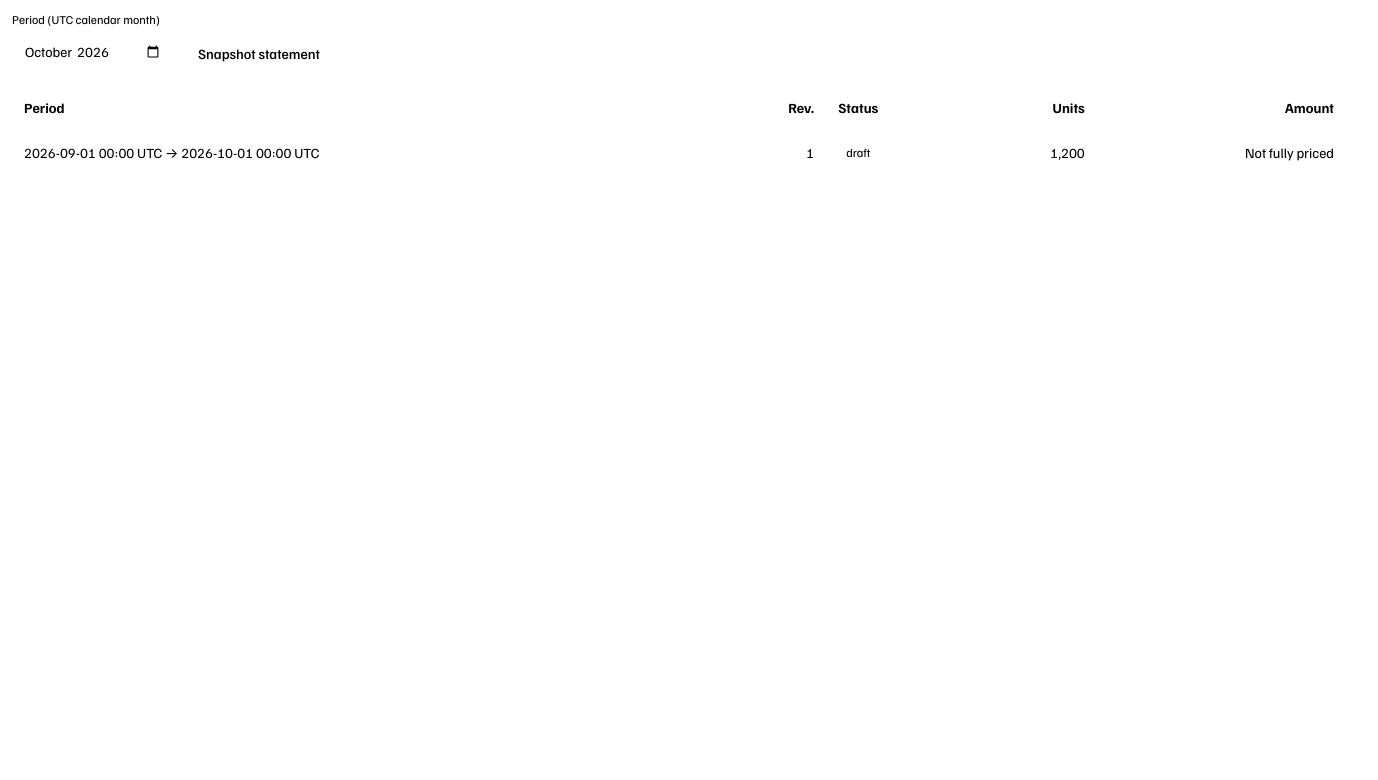
offers no finalize for an unpriced draft and explains why
What coordinates should you click on to do the following:
click the text "Not fully priced"
I would click on:
 (1289, 152)
Its box is [1097,130,1346,175].
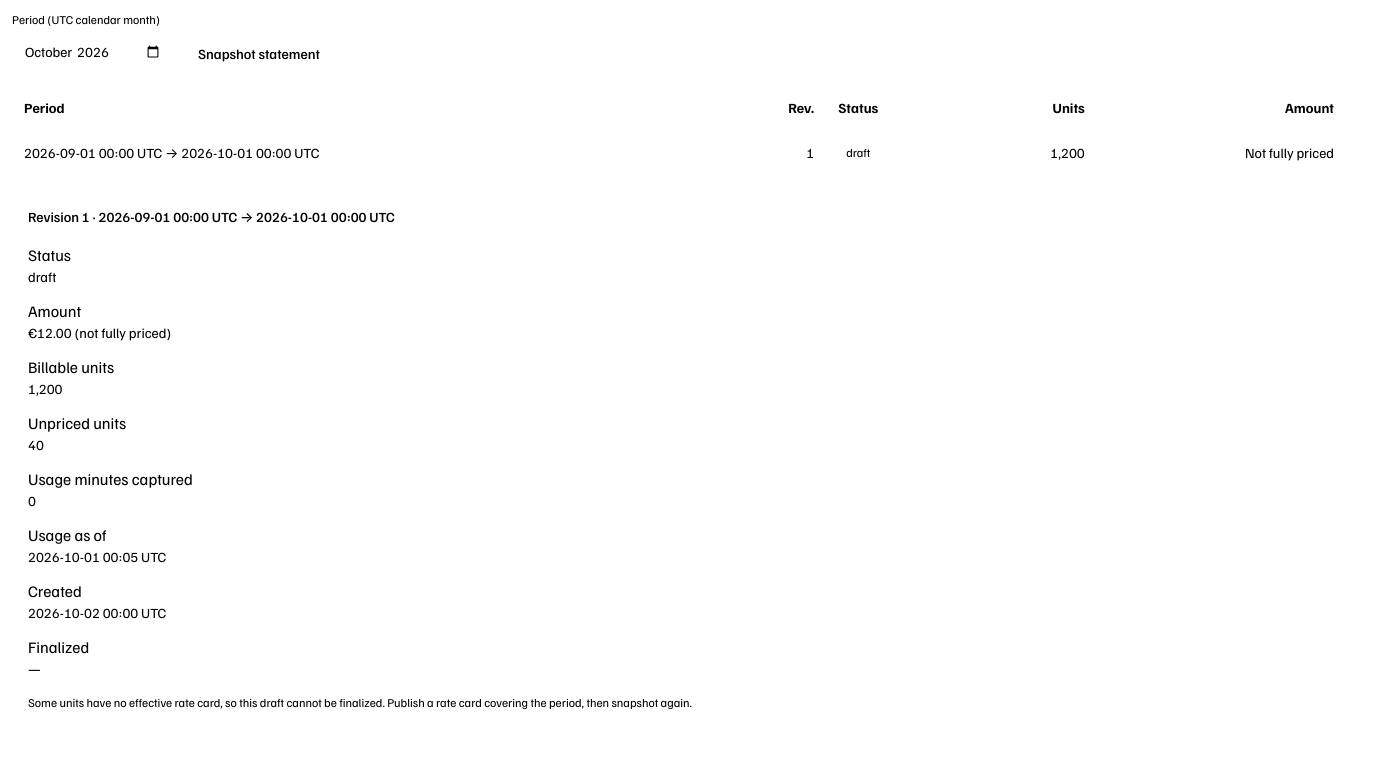
Expected: the text "cannot be finalized" is shown, [28,695,692,710]
